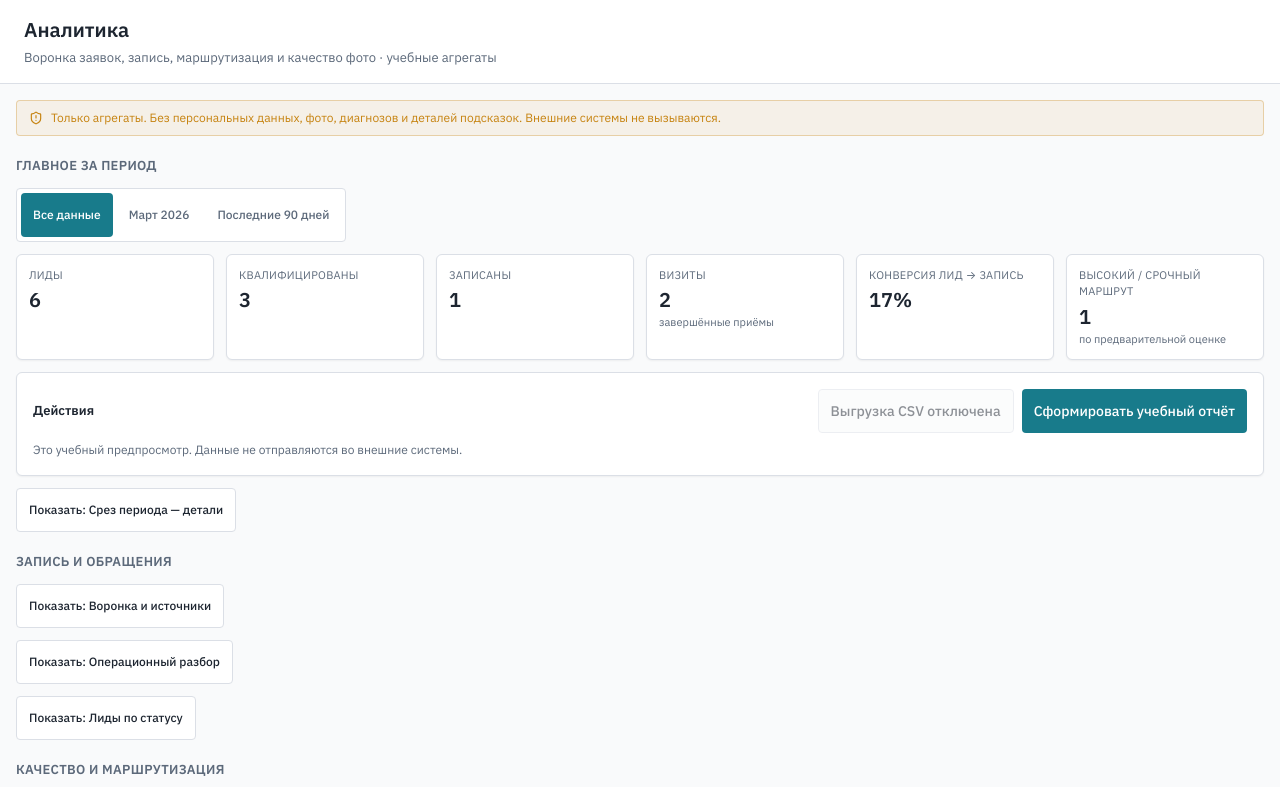
AdminAnalyticsPage — учебные действия › убирает старый учебный отчёт сразу после смены периода
Later steps or results of the test are not shown.
Click the tab "Март 2026": (159, 214) [117,192,201,236]
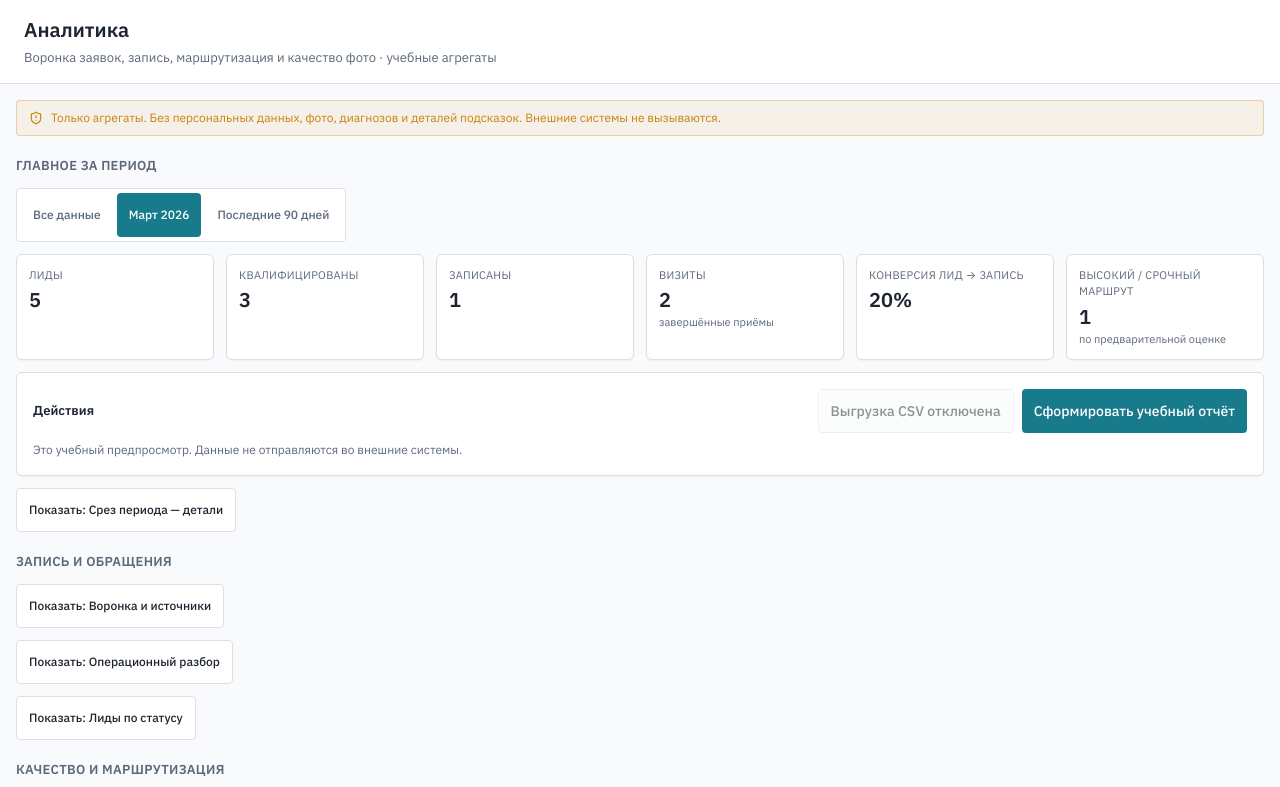
Click the button "Сформировать учебный отчёт": (1134, 411) [1022,389,1247,433]
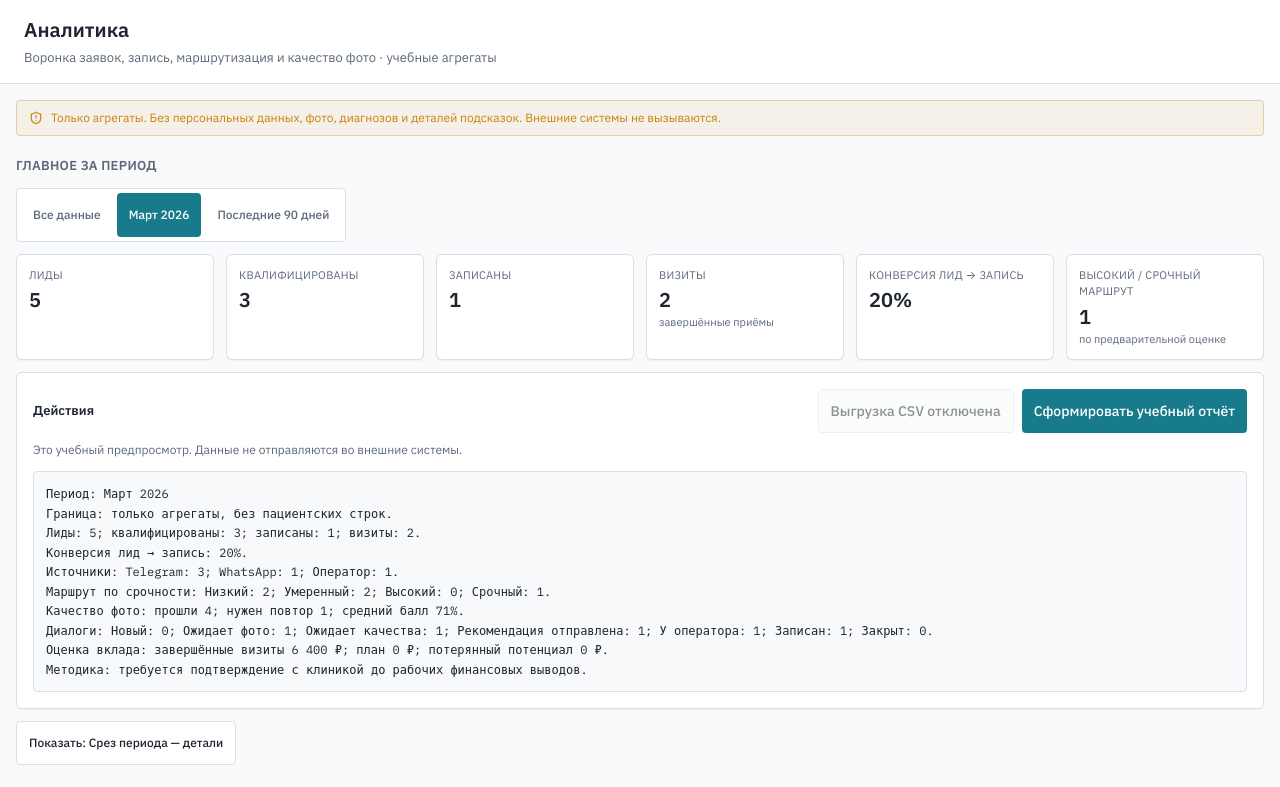
Expected: the text named "Безопасный агрегатный предпросмотр отчёта" shows "Период: Март 2026", [46,486,934,676]
